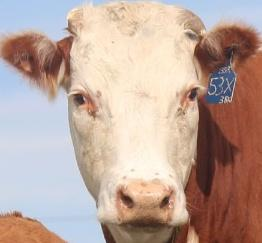muzzles: (97, 174, 190, 235)
